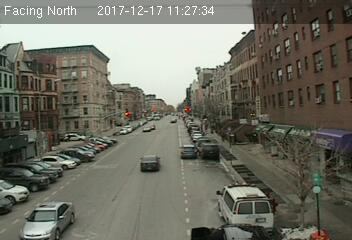car: (17, 200, 74, 240), (138, 154, 161, 172), (178, 144, 199, 161), (201, 142, 219, 161)
police: (215, 181, 273, 234)
